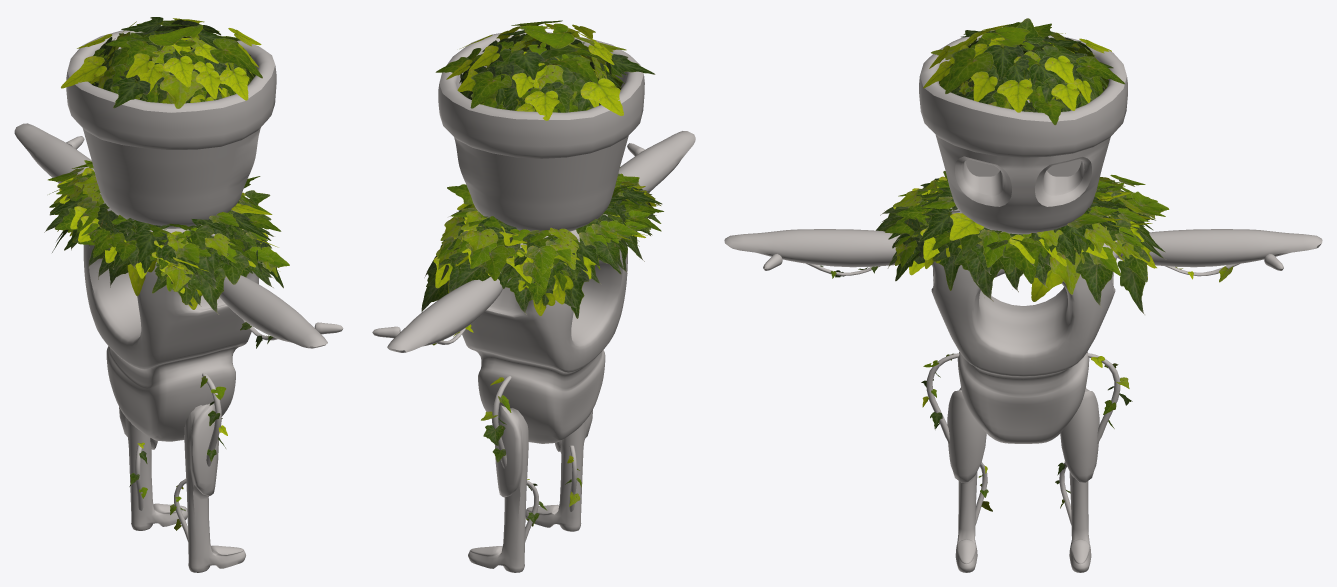
Rendered from Player Character Polished_Hair.fbx.
3 renders of one model, left to right at view 1: azimuth 30°, elevation 25°; view 2: azimuth 150°, elevation 25°; view 3: azimuth 270°, elevation 25°, orthographic.
Visible parts, largest first — view 1: Clover_Final; view 2: Clover_Final; view 3: Clover_Final.
Part boxes in pixels (left/top/right/bottom): Clover_Final: left=14, top=17, right=343, bottom=572; Clover_Final: left=372, top=20, right=695, bottom=572; Clover_Final: left=724, top=18, right=1322, bottom=572.
Size of the model in its own units: 323 by 783 by 816.
